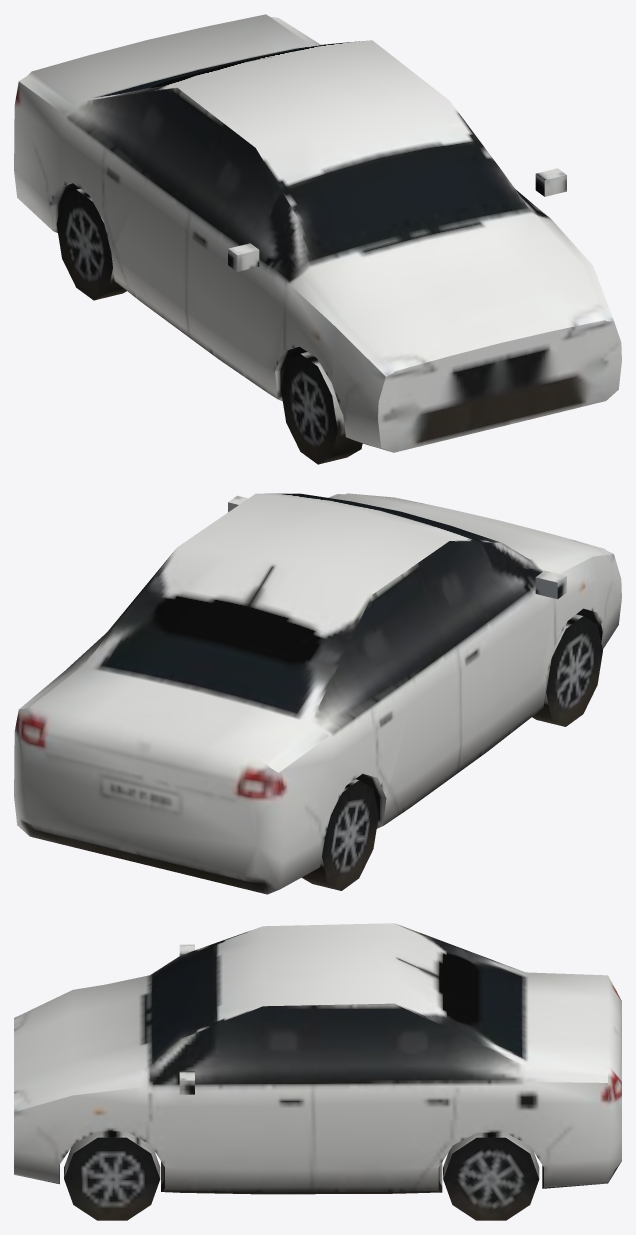
Rendered from car_sedan_lod.glb.
3 views of the same model, one above another, from view 1: azimuth 30°, elevation 25°; view 2: azimuth 150°, elevation 25°; view 3: azimuth 270°, elevation 25° (orthographic). The views are drawn at different scales.
Parts seen in each view (by area): view 1: car_sedan_lod; view 2: car_sedan_lod; view 3: car_sedan_lod.
Boxes of the visible parts, x1,y1,x2,y2 form: car_sedan_lod: (14,14,621,464); car_sedan_lod: (14,493,621,894); car_sedan_lod: (14,923,621,1220).
Bounding box in the file's own units: 2.08 × 1.49 × 3.93.
1 material, 1 textured.
